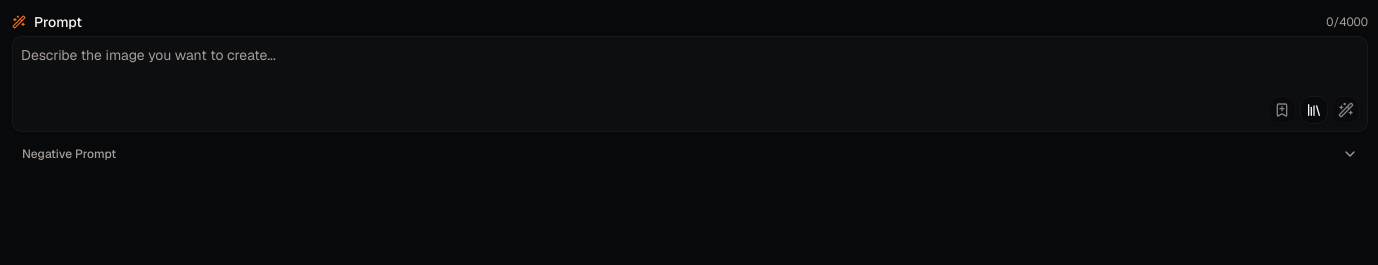
Test: PromptSection › negative prompt SavePromptButton disabled state › disables negative save button when negative prompt is empty
Note: Open negative prompt section
Step 1. Click the button with test id "negative-prompt-toggle" → (69,154), box x1=12 y1=138 x2=1368 y2=170
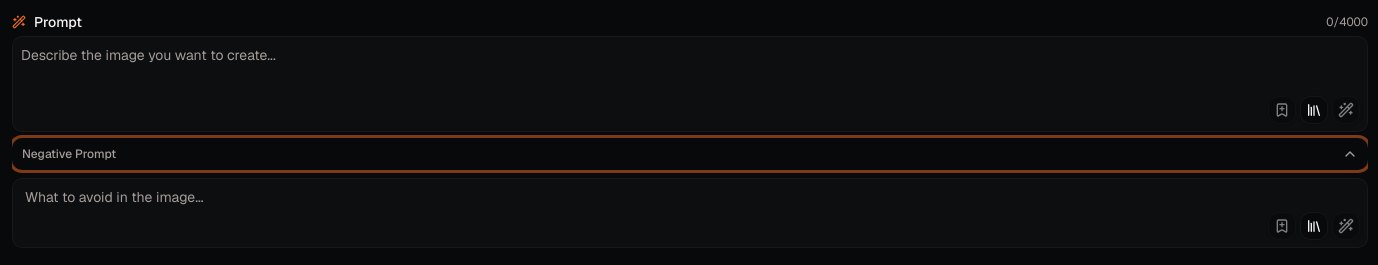
Expected: the button with test id "save-prompt-button" is disabled, x1=1268 y1=212 x2=1296 y2=240
